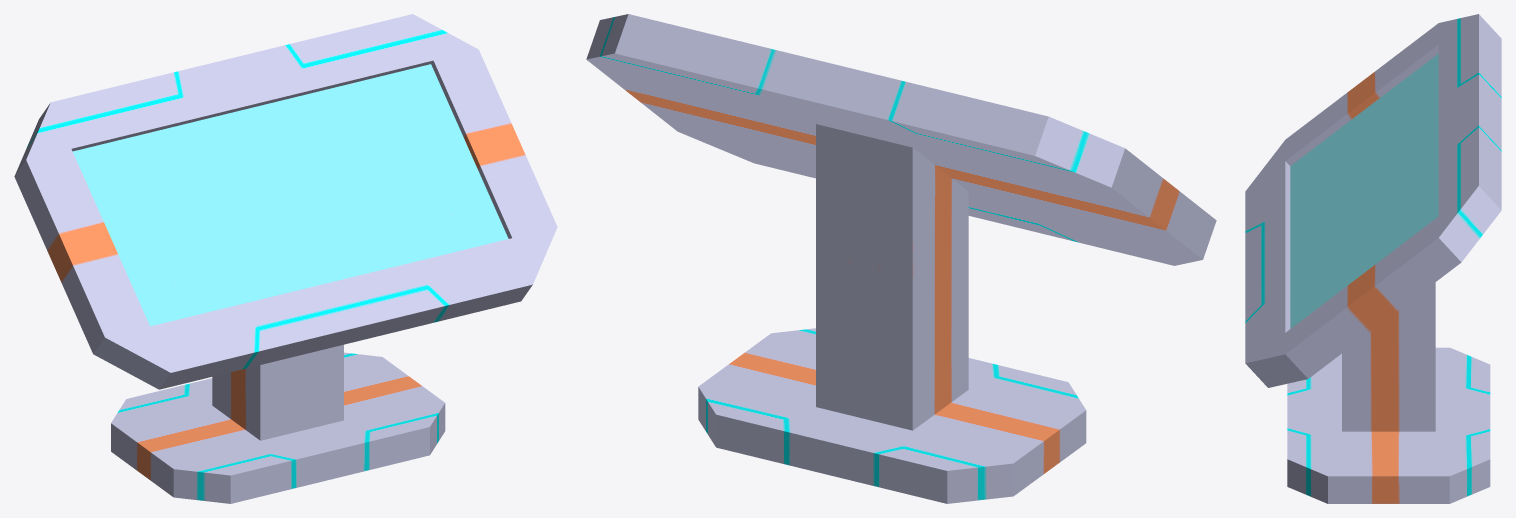
Rendered from Console_Model.gltf.
3 views of the same model, side by side, from view 1: azimuth 30°, elevation 25°; view 2: azimuth 150°, elevation 25°; view 3: azimuth 270°, elevation 25° (orthographic). The views are drawn at different scales.
Parts seen in each view (by area): view 1: console_geo, console_base_geo, console_stand_geo; view 2: console_geo, console_stand_geo, console_base_geo; view 3: console_geo, console_base_geo, console_stand_geo.
Boxes of the visible parts, x1,y1,x2,y2 form: console_geo: (14,14,557,389); console_base_geo: (111,352,445,503); console_stand_geo: (212,344,343,440); console_geo: (586,14,1216,265); console_stand_geo: (816,124,968,430); console_base_geo: (698,328,1086,503); console_geo: (1245,14,1501,387); console_base_geo: (1287,347,1490,503); console_stand_geo: (1342,282,1435,431).
Size of the model in its own units: 5 by 3.69 by 2.52.
Materials: 1 (1 with a texture image).
